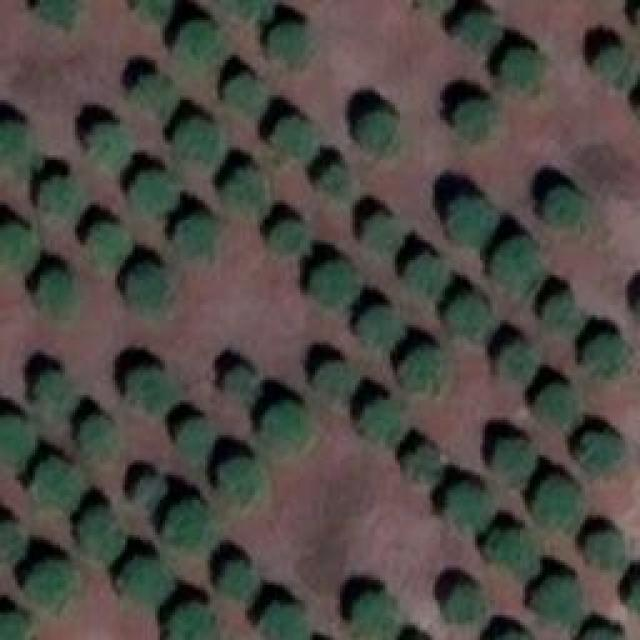Tree: (30, 457, 88, 515), (260, 403, 310, 456), (485, 530, 538, 580), (492, 240, 540, 295), (122, 557, 170, 605), (165, 500, 213, 548), (447, 197, 495, 245), (125, 368, 175, 413), (78, 510, 123, 560), (25, 560, 75, 605), (538, 480, 583, 530), (533, 578, 583, 623), (173, 120, 218, 168), (175, 23, 223, 68), (310, 263, 358, 308), (88, 125, 131, 173), (225, 170, 270, 215), (448, 483, 493, 528), (128, 265, 173, 308), (220, 463, 265, 506), (358, 308, 403, 351), (265, 25, 308, 70), (538, 385, 583, 428), (0, 415, 35, 470), (355, 592, 395, 640), (130, 172, 180, 210), (35, 373, 78, 416), (0, 225, 38, 273), (170, 602, 218, 640), (40, 175, 80, 220), (405, 255, 445, 300), (585, 335, 630, 375), (0, 122, 32, 177), (223, 75, 263, 118), (273, 118, 316, 158), (135, 73, 175, 116), (448, 300, 491, 340), (403, 348, 443, 391), (37, 273, 75, 318), (260, 602, 305, 640), (90, 225, 128, 268), (315, 362, 358, 400), (362, 400, 400, 443), (173, 217, 216, 255), (455, 13, 500, 48), (455, 100, 493, 140), (493, 442, 533, 480), (358, 113, 393, 156), (405, 445, 443, 483), (35, 0, 83, 30), (83, 415, 116, 458), (220, 560, 255, 600), (543, 293, 578, 333), (503, 50, 538, 88), (500, 342, 535, 380), (178, 418, 211, 458), (585, 533, 623, 566), (448, 585, 483, 620), (543, 188, 578, 223), (583, 433, 618, 468), (365, 218, 400, 251), (598, 50, 631, 85), (272, 223, 310, 253), (225, 0, 275, 20), (137, 473, 165, 508), (0, 522, 25, 560), (318, 168, 348, 198), (135, 0, 173, 20), (0, 615, 28, 640), (225, 365, 250, 390), (583, 628, 619, 640)
